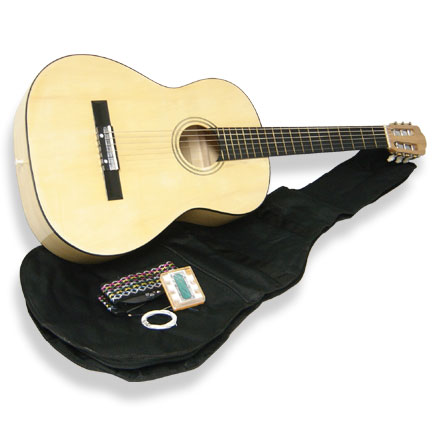guitar: (11, 53, 427, 264)
